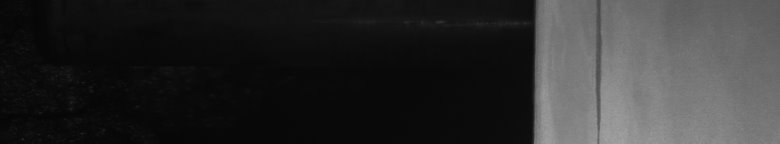hd: (589, 4, 608, 136)
